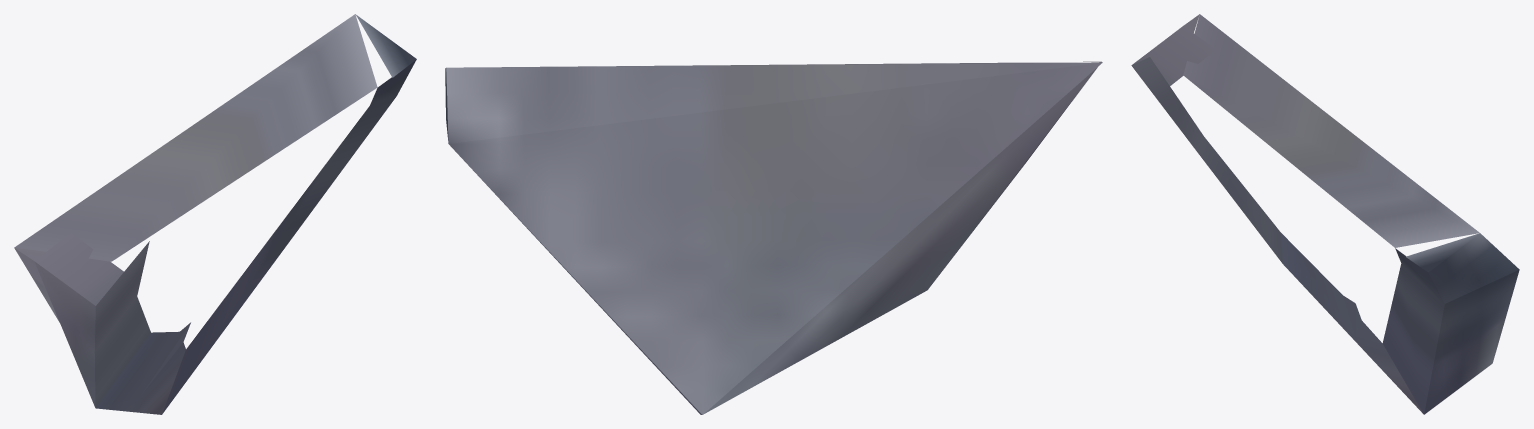
File: UlRPVEYubm9kZWRhdGEucGxhbmV0b2lkPWVhcnRoLG5vZGVfZGF0YV9lcG9jaD05MTYscGF0aD0zMTQzNDE1MjYwNzM2MjcxNTc2NyxjYWNoZV92ZXJzaW9uPTY.glb
3 views of the same model, side by side, from view 1: azimuth 30°, elevation 25°; view 2: azimuth 150°, elevation 25°; view 3: azimuth 270°, elevation 25° (orthographic). The views are drawn at different scales.
Bounding box in the file's own units: 3.73 × 2.22 × 2.73.
Materials: 1 (1 with a texture image).
